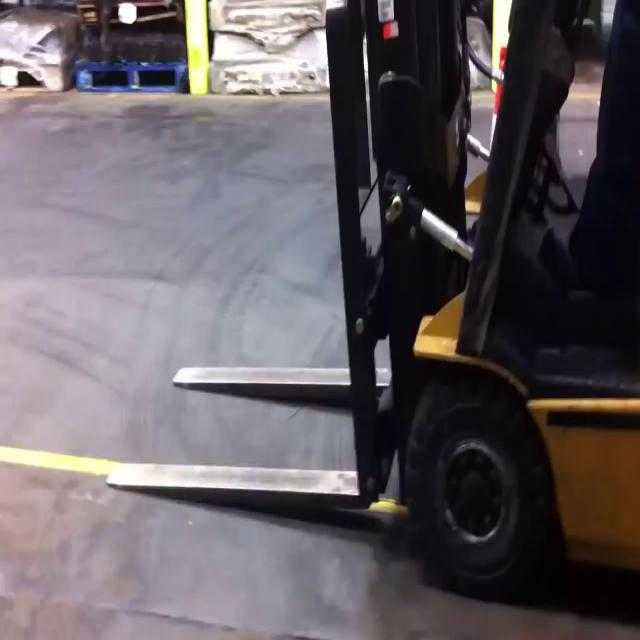Chariot elevateur: (319, 0, 640, 613)
